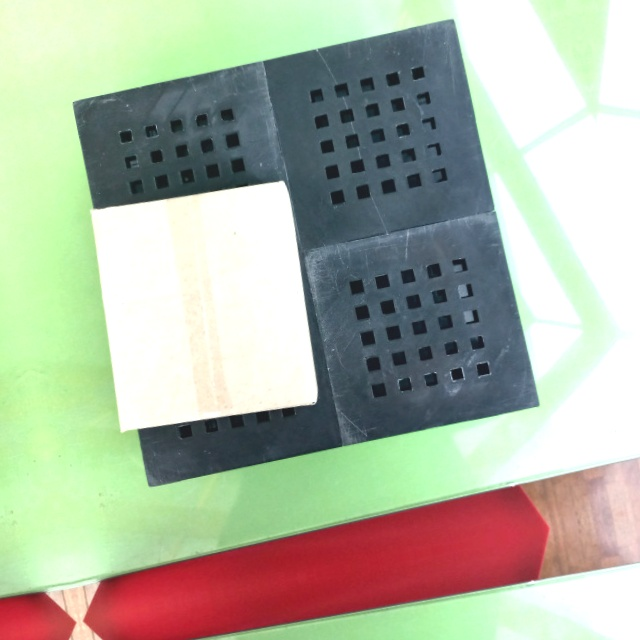box: (86, 180, 320, 432)
pallet: (59, 14, 553, 498)
